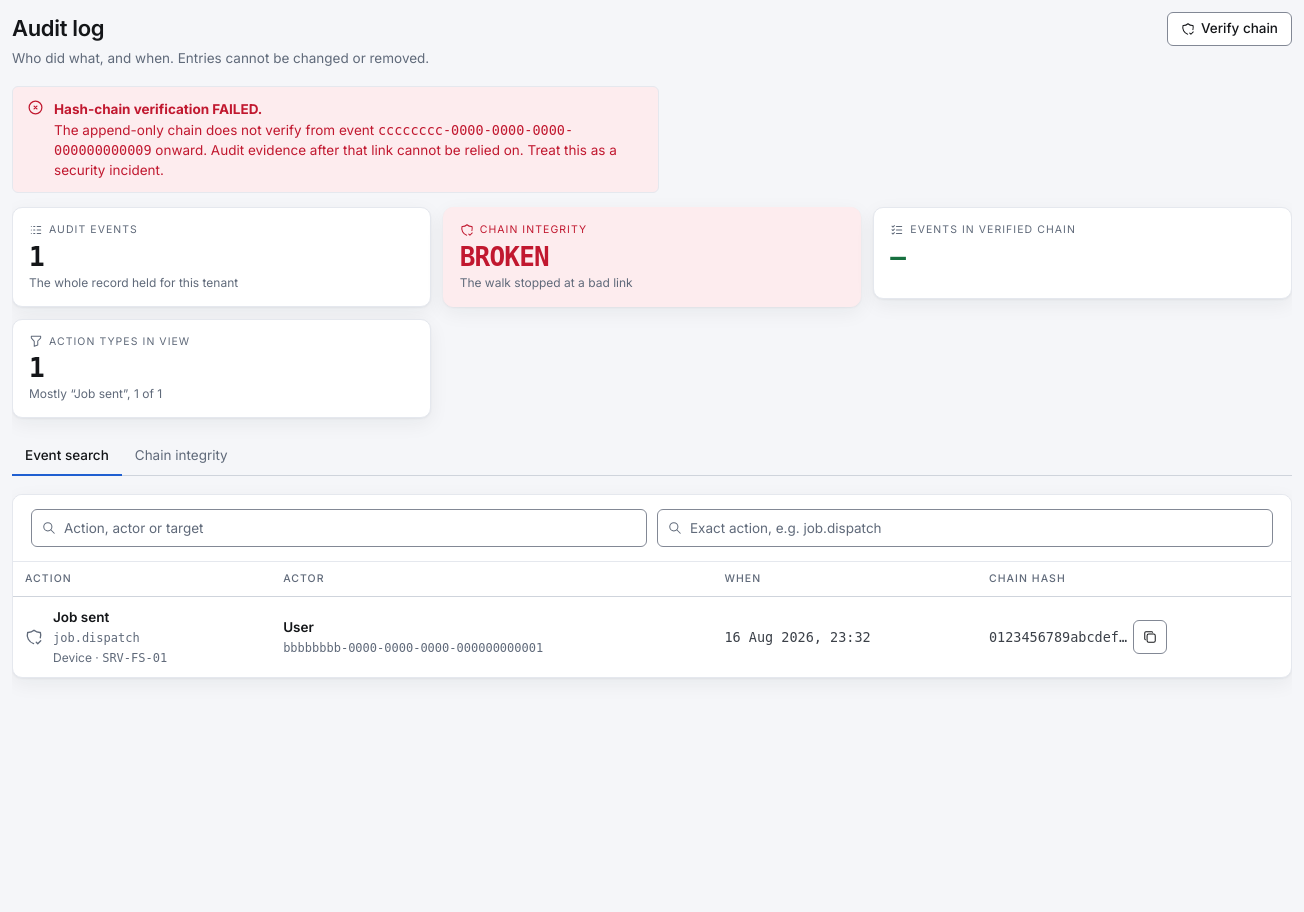
Test: AuditPage › renders a BROKEN chain unmistakably, on every tab
Check: the message shows "FAILED", box x1=54 y1=101 x2=262 y2=117
Check: the message shows "cccccccc-0000-0000-0000-000000000009", box x1=54 y1=122 x2=573 y2=158
Click the tab "Chain integrity". click: (181, 456)
box: x1=122 y1=436 x2=241 y2=476
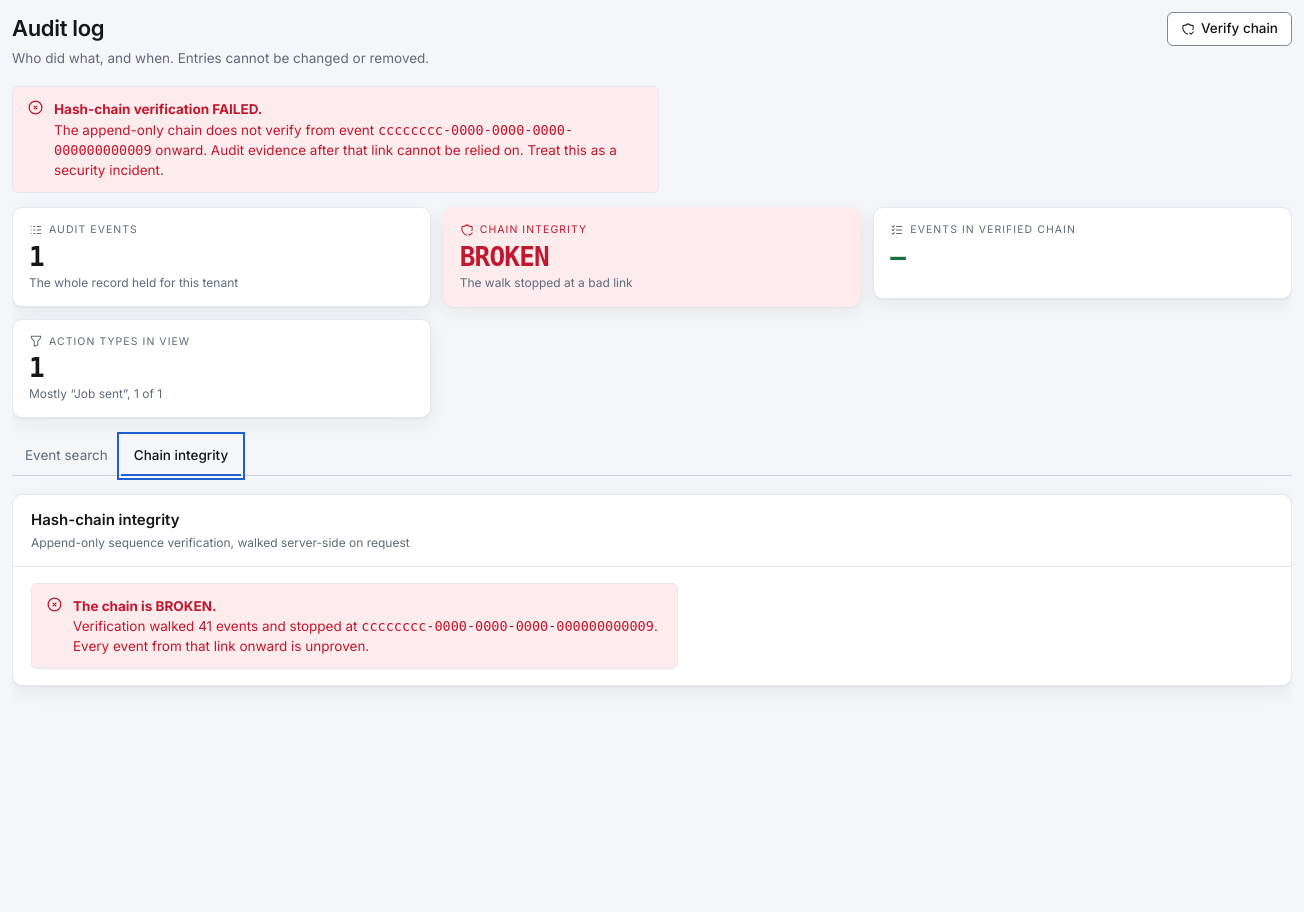
Check: the text "The chain is BROKEN." is shown, box x1=73 y1=598 x2=216 y2=614
